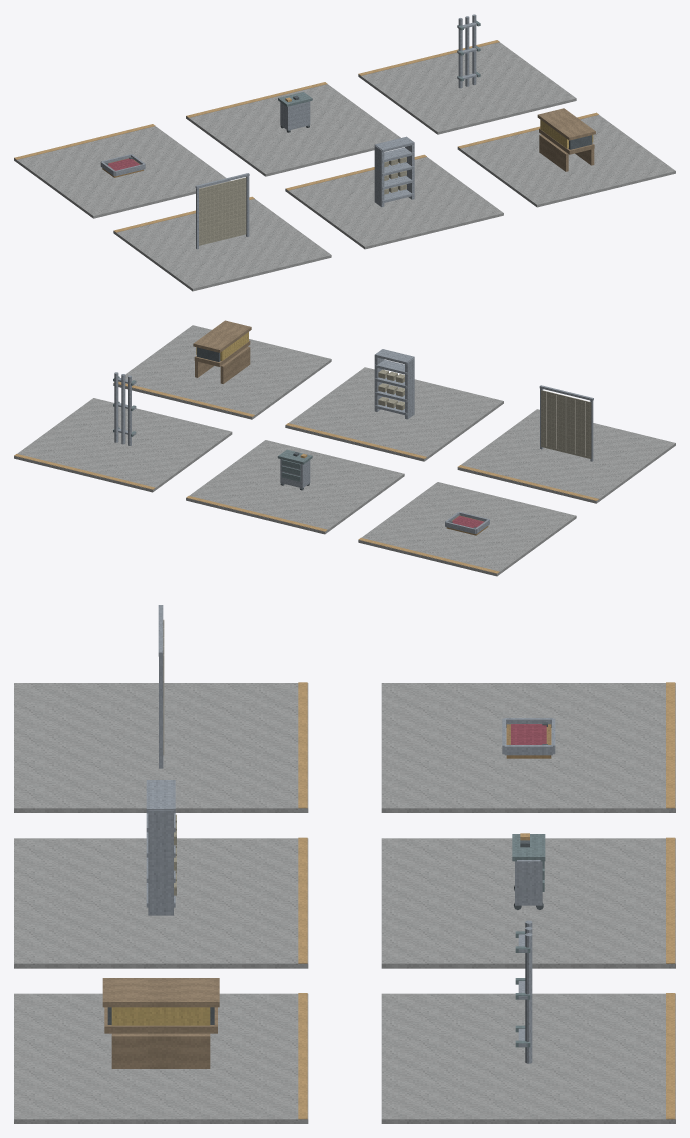
File: level_blockout_kit_wld_07_mortuary_p04.glb
3 renders of one model, top to bottom at view 1: azimuth 30°, elevation 25°; view 2: azimuth 150°, elevation 25°; view 3: azimuth 270°, elevation 25°, orthographic. The views are drawn at different scales.
Parts seen in each view (by area): view 1: level_blockout_kit_wld_07_mortuary_p04; view 2: level_blockout_kit_wld_07_mortuary_p04; view 3: level_blockout_kit_wld_07_mortuary_p04.
Boxes of the visible parts, x1,y1,x2,y2 form: level_blockout_kit_wld_07_mortuary_p04: [14, 14, 675, 291]; level_blockout_kit_wld_07_mortuary_p04: [14, 320, 675, 576]; level_blockout_kit_wld_07_mortuary_p04: [14, 605, 675, 1123].
Bounding box in the file's own units: 19.65 × 2.79 × 12.6.
11 materials, 11 textured.
